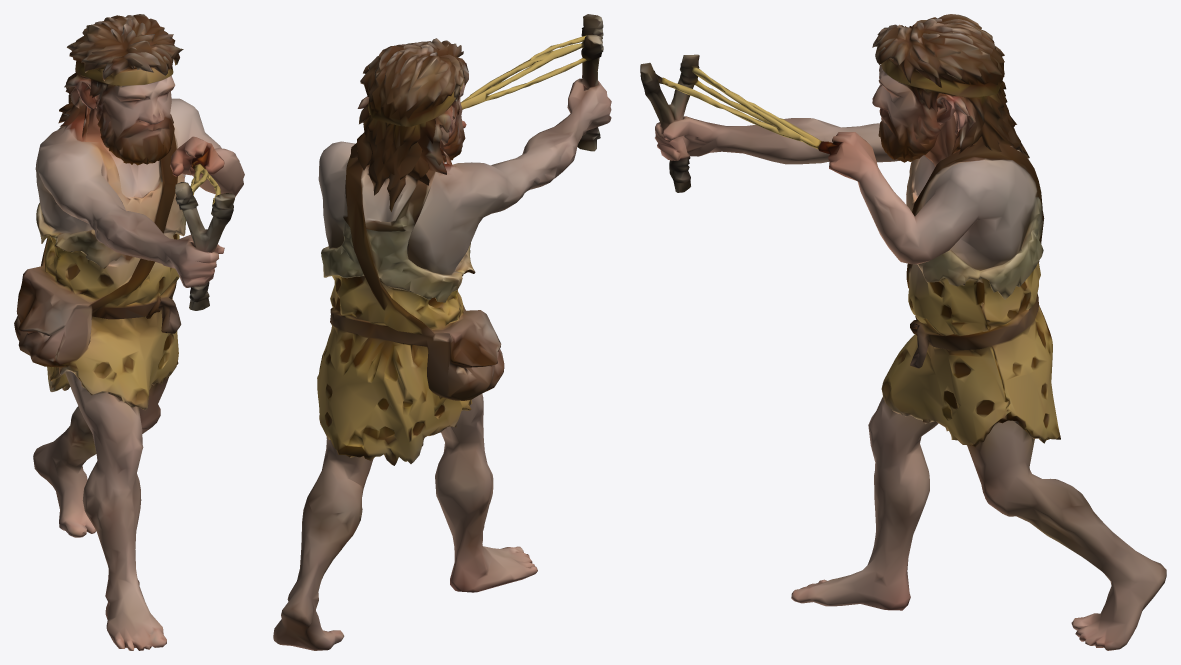
File: caveman_slingshot.glb
The picture shows the model from 3 angles, left to right: view 1: azimuth 30°, elevation 25°; view 2: azimuth 150°, elevation 25°; view 3: azimuth 270°, elevation 25°; orthographic projection. The views are drawn at different scales.
Parts seen in each view (by area): view 1: model; view 2: model; view 3: model.
Part boxes in pixels (<box>): model: <box>14,14,244,650</box>; model: <box>273,14,611,650</box>; model: <box>640,14,1166,650</box>.
Bounding box in the file's own units: 0.6763 × 1.89 × 1.5.
